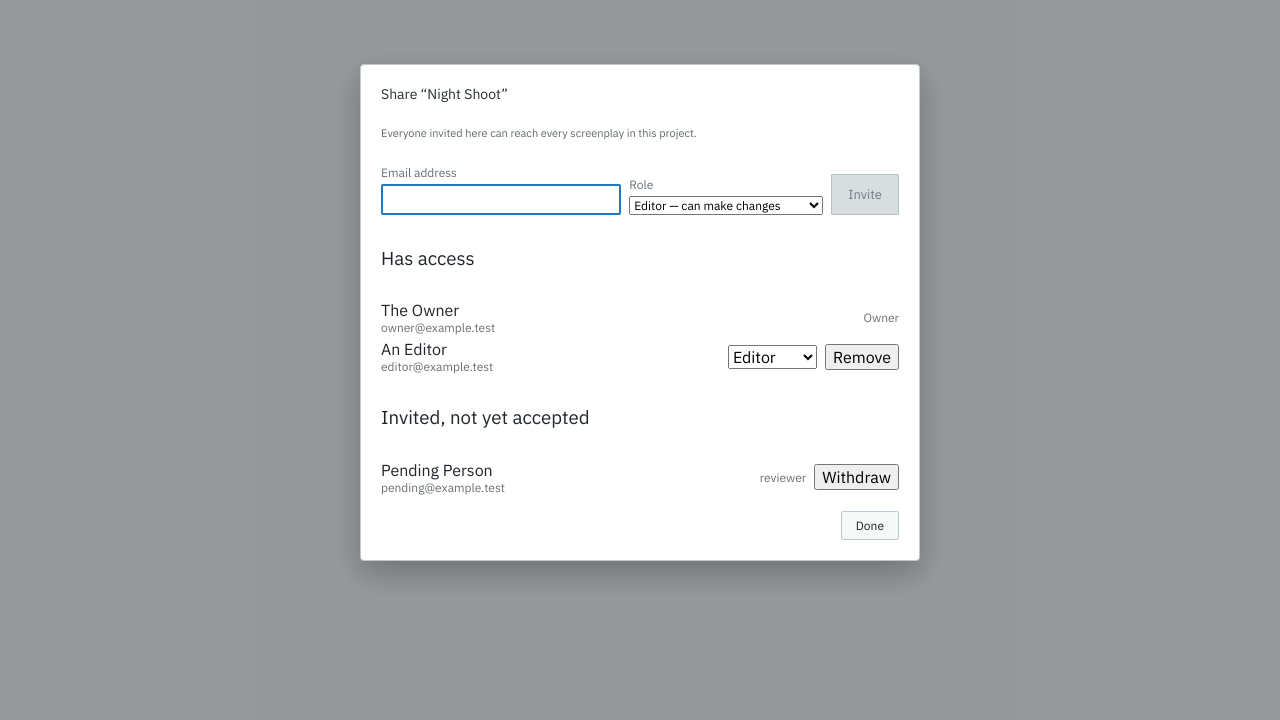
the sharing dialog › explains the two outcomes a member change can report without failing
Click the button with aria-label "Remove editor@example.test" at [862, 357], box [825,344,899,370]
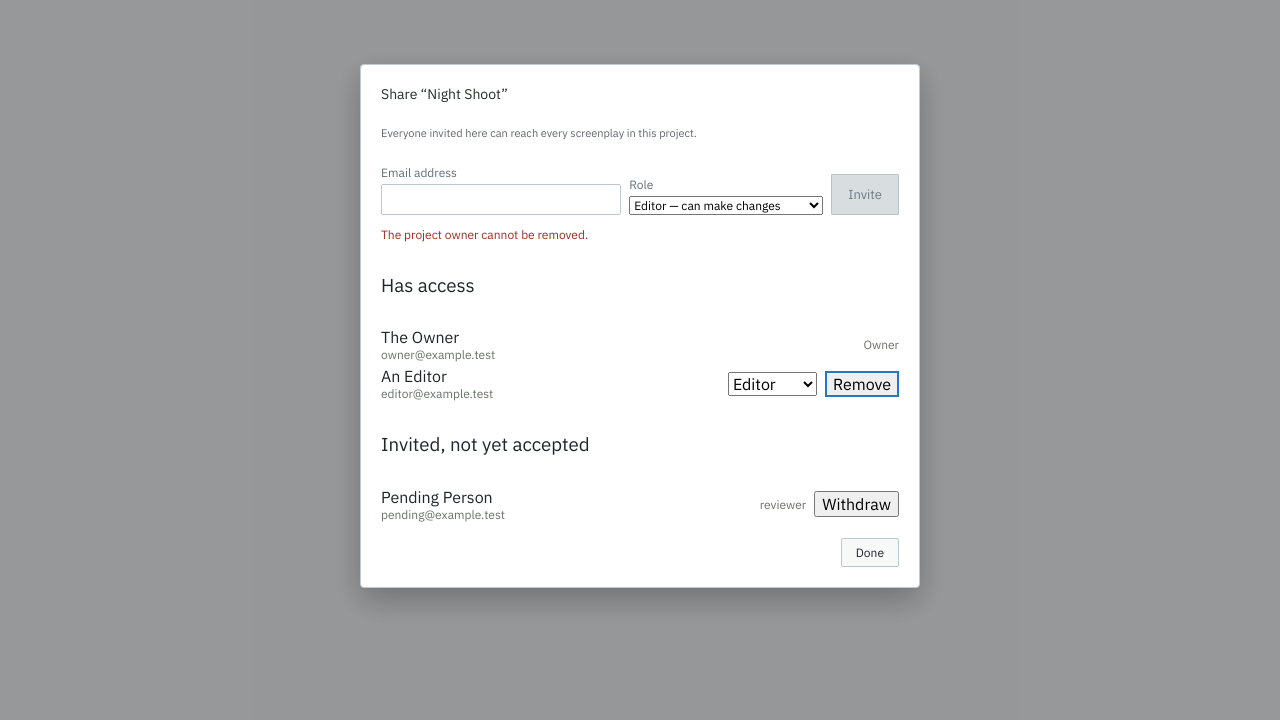
Result: the message reads "The project owner cannot be removed." at [381,227,588,242]
